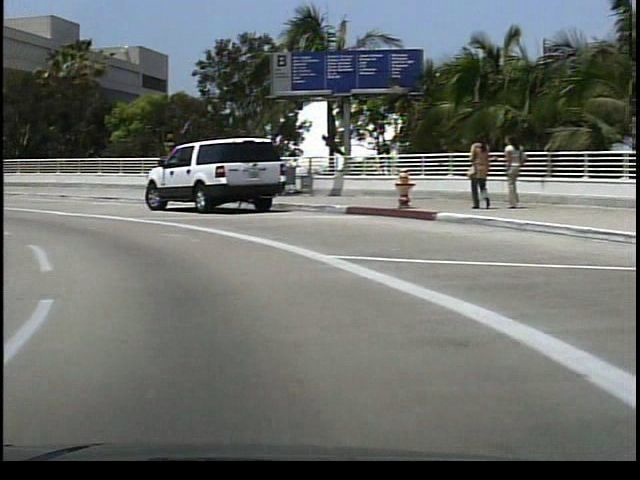person: (492, 133, 521, 211), (460, 130, 485, 215)
